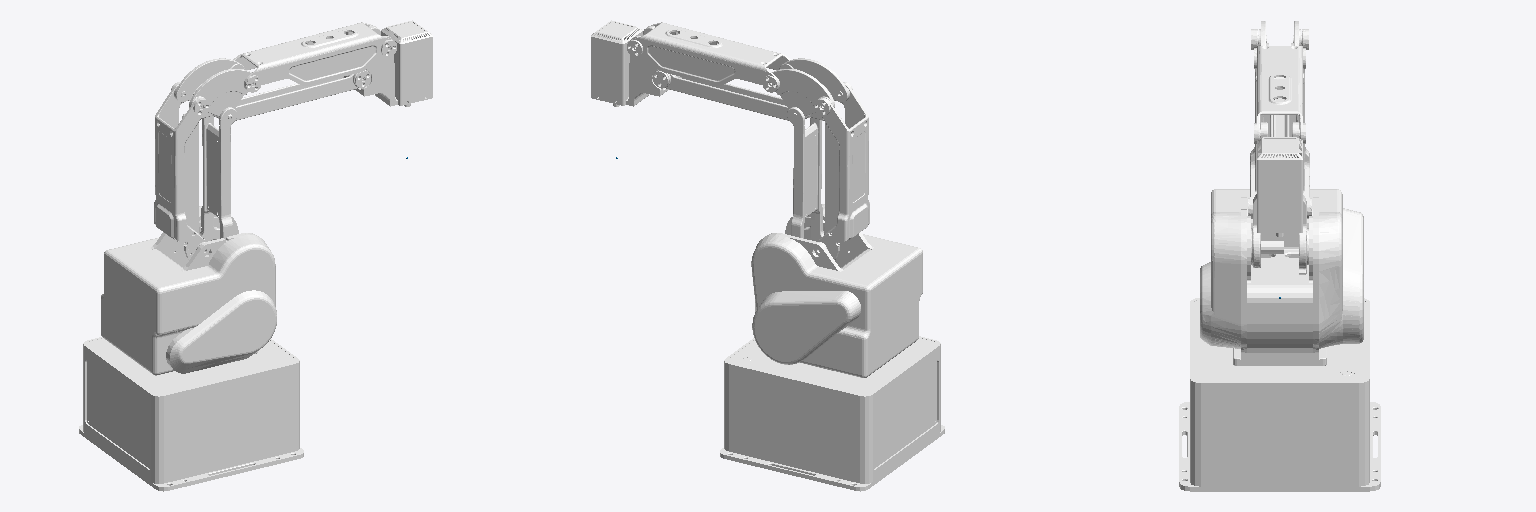
The robot description file, URDF, robot "mg400":
<?xml version="1.0" encoding="utf-8"?>
<!-- This URDF was automatically created by SolidWorks to URDF Exporter! Originally created by [author] ([email redacted]) 
     Commit Version: 1.6.0-1-g15f4949  Build Version: 1.6.7594.29634
     For more information, please see http://wiki.ros.org/sw_urdf_exporter -->
<robot name="mg400">
    <link name="base_link">
        <inertial>
            <origin xyz="0.000600637001378879 -2.53487071137343E-07 0.0560927888040551" rpy="0 0 0"/>
            <mass value="3.62164811695094"/>
            <inertia
                    ixx="0.0126582175296405"
                    ixy="6.66832041405407E-08"
                    ixz="-3.52548281362717E-06"
                    iyy="0.0145891535260188"
                    iyz="5.15901657460475E-08"
                    izz="0.0195045116656827"/>
        </inertial>
        <visual>
            <origin xyz="0 0 0" rpy="0 0 0"/>
            <geometry>
                <mesh filename="package://mg400/meshes/base_link.STL"/>
            </geometry>
            <material name="">
                <color rgba="1 1 1 1"/>
            </material>
        </visual>
        <collision>
            <origin xyz="0 0 0" rpy="0 0 0"/>
            <geometry>
                <mesh filename="package://mg400/meshes/base_link.STL"/>
            </geometry>
        </collision>
    </link>

    <link name="link1">
        <inertial>
            <origin xyz="-0.0046209286967387 -6.88107982318643E-05 0.0709919358465827" rpy="0 0 0"/>
            <mass value="1.77056222753813"/>
            <inertia
                    ixx="0.00605885293080088"
                    ixy="0.000156081820035162"
                    ixz="-0.00021785654850453"
                    iyy="0.00579381982249127"
                    iyz="6.20876898015621E-05"
                    izz="0.00741058257251941"/>
        </inertial>
        <visual>
            <origin xyz="0 0 0" rpy="0 0 0"/>
            <geometry>
                <mesh filename="package://mg400/meshes/link1.STL"/>
            </geometry>
            <material name="">
                <color rgba="1 1 1 1"/>
            </material>
        </visual>
        <collision>
            <origin xyz="0 0 0" rpy="0 0 0"/>
            <geometry>
                <mesh filename="package://mg400/meshes/link1.STL"/>
            </geometry>
        </collision>
    </link>

    <joint name="j1" type="revolute">
        <origin xyz="-0.00500000000000002 0 0.109" rpy="0 0 0"/>
        <parent link="base_link"/>
        <child link="link1"/>
        <axis xyz="0 0 1"/>
        <limit lower="-3.14" upper="3.14" effort="0" velocity="0"/>
    </joint>

    <link name="link2_1">
        <inertial>
            <origin xyz="-0.00321788524756698 0.0352926570826593 0.0596131328734945" rpy="0 0 0"/>
            <mass value="0.0866115884541459"/>
            <inertia
                    ixx="0.000338551627157209"
                    ixy="-2.78858228577314E-09"
                    ixz="1.05212346076681E-05"
                    iyy="0.000307789653713489"
                    iyz="-1.36109590152488E-06"
                    izz="3.89949940178023E-05"/>
        </inertial>
        <visual>
            <origin xyz="0 0 0" rpy="0 0 0"/>
            <geometry>
                <mesh filename="package://mg400/meshes/link2_1.STL"/>
            </geometry>
            <material name="">
                <color rgba="1 1 1 1"/>
            </material>
        </visual>
        <collision>
            <origin xyz="0 0 0" rpy="0 0 0"/>
            <geometry>
                <mesh filename="package://mg400/meshes/link2_1.STL"/>
            </geometry>
        </collision>
    </link>

    <joint name="j2_1" type="revolute">
        <origin xyz="0.0435007595118091 -0.0357748756218899 0.118995682641123" rpy="0 0 0"/>
        <parent link="link1"/>
        <child link="link2_1"/>
        <axis xyz="0 1 0"/>
        <limit lower="-3.14" upper="3.14" effort="0" velocity="0"/>
    </joint>

    <link name="link3_1">
        <inertial>
            <origin xyz="0.0821679417596488 0.000113044685842874 -0.00333758753063973" rpy="0 0 0"/>
            <mass value="0.0375214831045061"/>
            <inertia
                    ixx="2.54761091812684E-06"
                    ixy="3.73102654491378E-07"
                    ixz="-2.02625705871199E-06"
                    iyy="0.000164234314177935"
                    iyz="-1.44731096825347E-08"
                    izz="0.000164331500854172"/>
        </inertial>
        <visual>
            <origin xyz="0 0 0" rpy="0 0 0"/>
            <geometry>
                <mesh filename="package://mg400/meshes/link3_1.STL"/>
            </geometry>
            <material name="">
                <color rgba="1 1 1 1"/>
            </material>
        </visual>
        <collision>
            <origin xyz="0 0 0" rpy="0 0 0"/>
            <geometry>
                <mesh filename="package://mg400/meshes/link3_1.STL"/>
            </geometry>
        </collision>
    </link>

    <joint name="j3_1" type="revolute">
        <origin xyz="-0.0010512570171516 0.0357748756218898 0.175001164344716" rpy="0 0 0"/>
        <parent link="link2_1"/>
        <child link="link3_1"/>
        <axis xyz="0 1 0"/>
        <limit lower="-3.14" upper="3.14" effort="0" velocity="0"/>
    </joint>

    <link name="link4_1">
        <inertial>
            <origin xyz="0.0387878182928232 0.0170848333998282 -0.0024610990490942" rpy="0 0 0"/>
            <mass value="0.0628979533925801"/>
            <inertia
                    ixx="4.78483605712844E-05"
                    ixy="1.42081909356751E-07"
                    ixz="8.32917079044309E-06"
                    iyy="5.42362047732042E-05"
                    iyz="-2.90608446019989E-08"
                    izz="3.36120409842199E-05"/>
        </inertial>
        <visual>
            <origin xyz="0 0 0" rpy="0 0 0"/>
            <geometry>
                <mesh filename="package://mg400/meshes/link4_1.STL"/>
            </geometry>
            <material name="">
                <color rgba="1 1 1 1"/>
            </material>
        </visual>
        <collision>
            <origin xyz="0 0 0" rpy="0 0 0"/>
            <geometry>
                <mesh filename="package://mg400/meshes/link4_1.STL"/>
            </geometry>
        </collision>
    </link>

    <joint name="j4_1" type="revolute">
        <origin xyz="0.174969784055705 -0.0170000000000335 0.00325187137614585" rpy="0 0 0"/>
        <parent link="link3_1"/>
        <child link="link4_1"/>
        <axis xyz="0 1 0"/>
        <limit lower="-3.14" upper="3.14" effort="0" velocity="0"/>
    </joint>

    <link name="link5">
        <inertial>
            <origin xyz="4.24246458685662E-07 3.08507851181768E-14 -0.0349688816440933" rpy="0 0 0"/>
            <mass value="0.0965276919819365"/>
            <inertia
                    ixx="4.98589992160928E-05"
                    ixy="-1.534865545378E-12"
                    ixz="3.46424449605658E-10"
                    iyy="4.98589881725446E-05"
                    iyz="-5.64890953414983E-17"
                    izz="2.130463008359E-05"/>
        </inertial>
        <visual>
            <origin xyz="0 0 0" rpy="0 0 0"/>
            <geometry>
                <mesh filename="package://mg400/meshes/link5.STL"/>
            </geometry>
            <material name="">
                <color rgba="1 1 1 1"/>
            </material>
        </visual>
        <collision>
            <origin xyz="0 0 0" rpy="0 0 0"/>
            <geometry>
                <mesh filename="package://mg400/meshes/link5.STL"/>
            </geometry>
        </collision>
    </link>

    <joint name="j5" type="revolute">
        <origin xyz="0.0659996239003897 0.0170000000000371 0.031000800715573" rpy="0 0 0"/>
        <parent link="link4_1"/>
        <child link="link5"/>
        <axis xyz="-1.19408295462994E-05 0 0.999999999928708"/>
        <limit lower="-3.14" upper="3.14" effort="0" velocity="0"/>
    </joint>

    <link name="link2_2">
        <inertial>
            <origin xyz="-0.0201111131723385 0.0304999635268521 0.073632809340276" rpy="0 0 0"/>
            <mass value="0.0662546292985346"/>
            <inertia
                    ixx="0.000218973873589181"
                    ixy="3.0147933007673E-10"
                    ixz="2.51402553227571E-06"
                    iyy="0.000200510070261609"
                    iyz="-1.41837669904595E-09"
                    izz="3.74316777806776E-05"/>
        </inertial>
        <visual>
            <origin xyz="0 0 0" rpy="0 0 0"/>
            <geometry>
                <mesh filename="package://mg400/meshes/link2_2.STL"/>
            </geometry>
            <material name="">
                <color rgba="1 1 1 1"/>
            </material>
        </visual>
        <collision>
            <origin xyz="0 0 0" rpy="0 0 0"/>
            <geometry>
                <mesh filename="package://mg400/meshes/link2_2.STL"/>
            </geometry>
        </collision>
    </link>

    <joint name="j2_2" type="revolute">
        <origin xyz="0.00452885682964267 -0.0305 0.141500000000001" rpy="0 0 0"/>
        <parent link="link1"/>
        <child link="link2_2"/>
        <axis xyz="0 1 0"/>
        <limit lower="-3.14" upper="3.14" effort="0" velocity="0"/>
    </joint>

    <link name="link3_2">
        <inertial>
            <origin xyz="0.0338566736074436 0.0240208873857428 0.00452229895926692" rpy="0 0 0"/>
            <mass value="0.0366692789294813"/>
            <inertia
                    ixx="7.24011830695354E-06"
                    ixy="7.93542746250724E-10"
                    ixz="-1.69163254472566E-06"
                    iyy="2.34967008246727E-05"
                    iyz="4.55507111386579E-10"
                    izz="1.66831643179488E-05"/>
        </inertial>
        <visual>
            <origin xyz="0 0 0" rpy="0 0 0"/>
            <geometry>
                <mesh filename="package://mg400/meshes/link3_2.STL"/>
            </geometry>
            <material name="">
                <color rgba="1 1 1 1"/>
            </material>
        </visual>
        <collision>
            <origin xyz="0 0 0" rpy="0 0 0"/>
            <geometry>
                <mesh filename="package://mg400/meshes/link3_2.STL"/>
            </geometry>
        </collision>
    </link>

    <joint name="j3_2" type="revolute">
        <origin xyz="-0.00105049750546494 0.00649999999999986 0.174996846985851" rpy="0 0 0"/>
        <parent link="link2_2"/>
        <child link="link3_2"/>
        <axis xyz="0 1 0"/>
        <limit lower="-3.14" upper="3.14" effort="0" velocity="0"/>
    </joint>

    <link name="link4_2">
        <inertial>
            <origin xyz="0.0876391591012518 0.023499867452275 0.00831492252441945" rpy="0 0 0"/>
            <mass value="0.0453569016333092"/>
            <inertia
                    ixx="2.00037596001325E-05"
                    ixy="3.34474706250153E-09"
                    ixz="2.17594982354756E-07"
                    iyy="0.000132049841023893"
                    iyz="5.36978669669685E-10"
                    izz="0.000141813978894428"/>
        </inertial>
        <visual>
            <origin xyz="0 0 0" rpy="0 0 0"/>
            <geometry>
                <mesh filename="package://mg400/meshes/link4_2.STL"/>
            </geometry>
            <material name="">
                <color rgba="1 1 1 1"/>
            </material>
        </visual>
        <collision>
            <origin xyz="0 0 0" rpy="0 0 0"/>
            <geometry>
                <mesh filename="package://mg400/meshes/link4_2.STL"/>
            </geometry>
        </collision>
    </link>

    <joint name="j4_2" type="revolute">
        <origin xyz="0.0678965856063864 0.000500000000000073 0.0119719999403219" rpy="0 0 0"/>
        <parent link="link3_2"/>
        <child link="link4_2"/>
        <axis xyz="0 1 0"/>
        <limit lower="-3.14" upper="3.14" effort="0" velocity="0"/>
    </joint>

  <!--dummy joint-->
  <joint name="ee_joint" type="fixed">
    <parent link="link5"/>
    <child link="ee_link"/>
    <origin xyz="0 0 -0.065" rpy="0 0 0"/>
  </joint>

  <link name="ee_link">
    <visual>
      <origin rpy="0 0 0" xyz="0 0 0"/>
      <geometry>
        <sphere radius="0.005"/>
      </geometry>
        <material name="Red"/>
    </visual>
    <collision>
      <geometry>
        <sphere radius="0.001"/>
      </geometry>
      <origin rpy="0 0 0" xyz="0.0 0 0"/>
    </collision>
    <inertial>
      <mass value="0.0"/>
      <origin rpy="-3.14 0.0 1.57" xyz="0.0 0.0 0.0"/>
      <inertia ixx="0.001" ixy="0.0" ixz="0.0" iyy="0.001" iyz="0.0" izz="0.001"/>
    </inertial>
  </link>
  <!-- TacTip -->

  <link name="tactip_body_link">
    <inertial>
      <origin rpy="0 0 -1.57" xyz="0 0 0"/>
        <mass value="0.25"/>
        <inertia ixx="0.001" ixy="0" ixz="0" iyy="0.001" iyz="0" izz="0.001"/>
    </inertial>
    <visual>
      <origin rpy="0 0 -1.57" xyz="0 0 0"/>
      <geometry>
        <mesh filename="../tactip/standard_tactip/body/tactip_body.obj" scale="1.0 1.0 1.0"/>
      </geometry>
        <material name="whitish">
        <color rgba="0.8 0.8 0.8 1.0"/>
      </material>
    </visual>
    <collision>
      <origin rpy="0 0 -1.57" xyz="0 0 0"/>
      <geometry>
        <mesh filename="../tactip/standard_tactip/body/tactip_body.obj" scale="1.0 1.0 1.0"/>
      </geometry>
    </collision>
  </link>

  <joint name="tactip_ee_joint" type="fixed">
    <parent link="ee_link"/>
    <child link="tactip_body_link"/>
    <origin rpy="-3.14 0.0 1.57" xyz="0.0 0.0 0.0"/>
  </joint>

  <link name="tactip_tip_link">
    <contact>
      <friction_anchor/>
      <lateral_friction value="1.0"/>
    </contact>
    <inertial>
      <origin rpy="0 0 0" xyz="0 0 0"/>
        <mass value="0.01"/>
        <inertia ixx="1" ixy="0" ixz="0" iyy="1" iyz="0" izz="1"/>
    </inertial>
    <visual>
      <origin rpy="0 0 0" xyz="0 0 0"/>
      <geometry>
        <mesh filename="../tactip/standard_tactip/tip/skin.obj" scale="1.0 1.0 1.0"/>
      </geometry>
      <material name="black">
          <color rgba="0.0 0.0 0.0 1.0"/>
      </material>
    </visual>
    <collision>
      <origin rpy="0 0 0" xyz="0 0 0"/>
      <geometry>
        <mesh filename="../tactip/standard_tactip/tip/core.obj" scale="1 1 1"/>
      </geometry>
    </collision>
  </link>

  <joint name="tactip_tip_to_body" type="fixed">
      <origin rpy="1.57 0 0" xyz="0 0 0.065"/>
      <axis xyz="0 1 0"/>
      <parent link="tactip_body_link"/>
      <child link="tactip_tip_link"/>
  </joint>

  <!-- TCP -->
  <link name="tcp_link">
    <visual>
      <origin rpy="0 0 0" xyz="0 0 0"/>
      <geometry>
        <sphere radius="0.001"/>
      </geometry>
        <material name="TransparentRed"/>
    </visual>
    <inertial>
      <mass value="0.0"/>
      <origin rpy="0.0 0.0 1.57" xyz="0.0 0.0 0.0"/>
      <inertia ixx="1.0" ixy="0.0" ixz="0.0" iyy="1.0" iyz="0.0" izz="1.0"/>
    </inertial>
  </link>

  <joint name="tcp_joint" type="fixed">
    <parent link="tactip_body_link"/>
    <child link="tcp_link"/>
    <origin rpy="0 0 -1.57" xyz="0.0 0.0 0.085"/>
  </joint>


</robot>

--- Render facts (derived) ---
Views: 3 orthographic renders of the robot side by side, from view 1: azimuth 30°, elevation 25°; view 2: azimuth 150°, elevation 25°; view 3: azimuth 270°, elevation 25°.
Robot: mg400 — 13 links, 12 joints (8 revolute, 4 fixed); root link base_link; default pose: every joint at zero.
Links seen in each view (by area): view 1: base_link, link1, link2_2, link4_2, link4_1, link2_1, link3_2, link3_1; view 2: base_link, link1, link2_2, link4_2, link4_1, link2_1, link3_2, link3_1; view 3: base_link, link1, link4_1, link4_2, link2_1, link2_2.
Boxes of the visible links, <box> form: base_link: <box>79,337,303,491</box>; link1: <box>101,206,276,375</box>; link2_2: <box>154,82,209,255</box>; link4_2: <box>233,22,396,92</box>; link4_1: <box>353,20,432,106</box>; link2_1: <box>200,107,236,241</box>; link3_2: <box>174,58,254,118</box>; link3_1: <box>182,74,357,120</box>; base_link: <box>720,336,944,491</box>; link1: <box>751,204,922,377</box>; link2_2: <box>814,82,869,255</box>; link4_2: <box>627,22,790,92</box>; link4_1: <box>591,20,670,106</box>; link2_1: <box>787,107,823,241</box>; link3_2: <box>769,58,849,118</box>; link3_1: <box>666,74,823,120</box>; base_link: <box>1179,298,1380,491</box>; link1: <box>1200,189,1363,365</box>; link4_1: <box>1257,122,1302,232</box>; link4_2: <box>1254,46,1305,143</box>; link2_1: <box>1251,73,1308,274</box>; link2_2: <box>1248,29,1311,218</box>.
Size in the robot's own frame: 0.3954 by 0.19 by 0.4597 metres.
Meshes: 11 distinct files referenced, 9 mesh visuals loaded (9 binary STL); not drawn: 2 (reference not matched to a file when rendering).